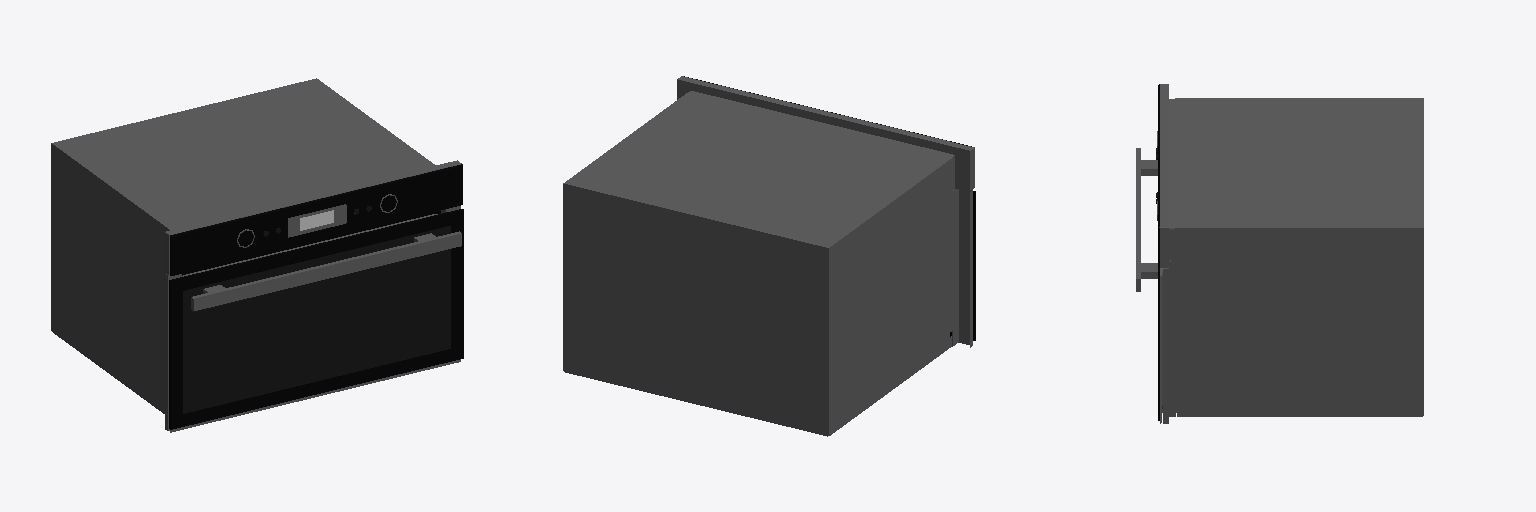
The model's file is IKEA.ART.90300952.obj.
The picture shows the model from 3 angles: view 1: azimuth 30°, elevation 25°; view 2: azimuth 150°, elevation 25°; view 3: azimuth 270°, elevation 25°; orthographic projection.
Parts seen in each view (by area): view 1: model_model.003; view 2: model_model.003; view 3: model_model.003.
Boxes of the visible parts, box(x1,y1,x2,y2) form: model_model.003: box(51, 78, 463, 432); model_model.003: box(563, 76, 975, 436); model_model.003: box(1136, 84, 1423, 423).
Size of the model in its own units: 0.5952 by 0.3898 by 0.5053.